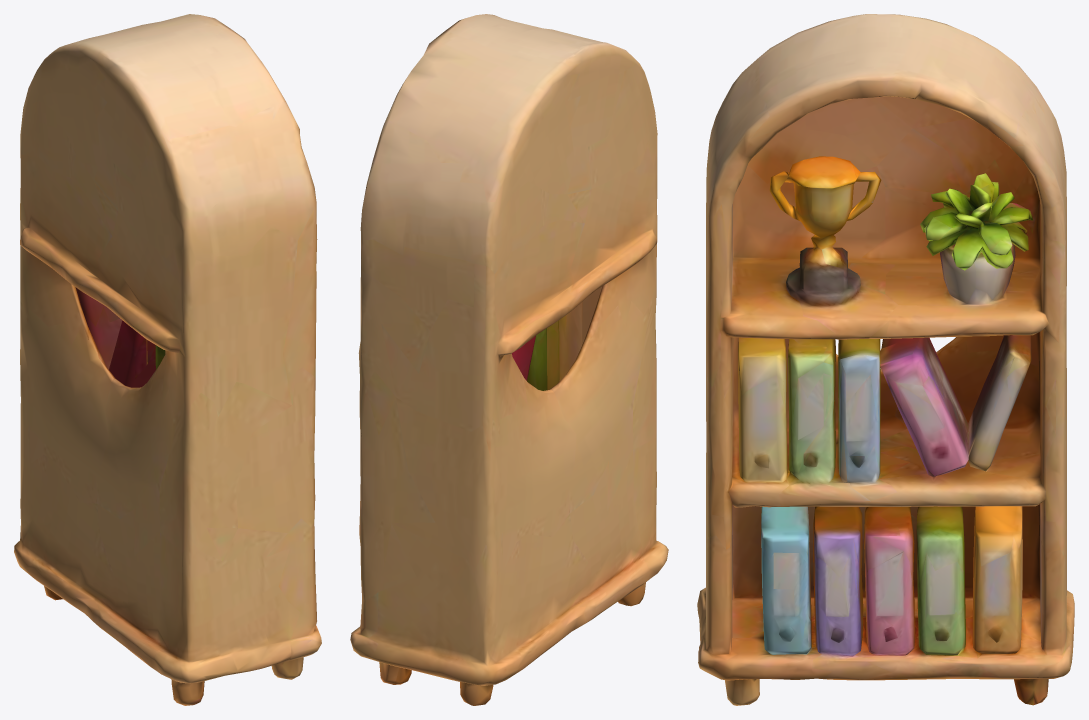
The model's file is shelf.glb.
3 renders of one model, left to right at view 1: azimuth 30°, elevation 25°; view 2: azimuth 150°, elevation 25°; view 3: azimuth 270°, elevation 25°, orthographic. The views are drawn at different scales.
Parts seen in each view (by area): view 1: tripo_node_a48dea55-a934-48f5-b7b2-d7e920779baa; view 2: tripo_node_a48dea55-a934-48f5-b7b2-d7e920779baa; view 3: tripo_node_a48dea55-a934-48f5-b7b2-d7e920779baa.
Boxes of the visible parts, box(x1,y1,x2,y2) form: tripo_node_a48dea55-a934-48f5-b7b2-d7e920779baa: box(14, 14, 321, 705); tripo_node_a48dea55-a934-48f5-b7b2-d7e920779baa: box(350, 14, 668, 705); tripo_node_a48dea55-a934-48f5-b7b2-d7e920779baa: box(697, 14, 1074, 705).
Size of the model in its own units: 0.2752 by 1 by 0.5421.
1 material, 1 textured.
